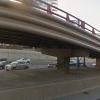Bridge: (10, 1, 96, 65)
